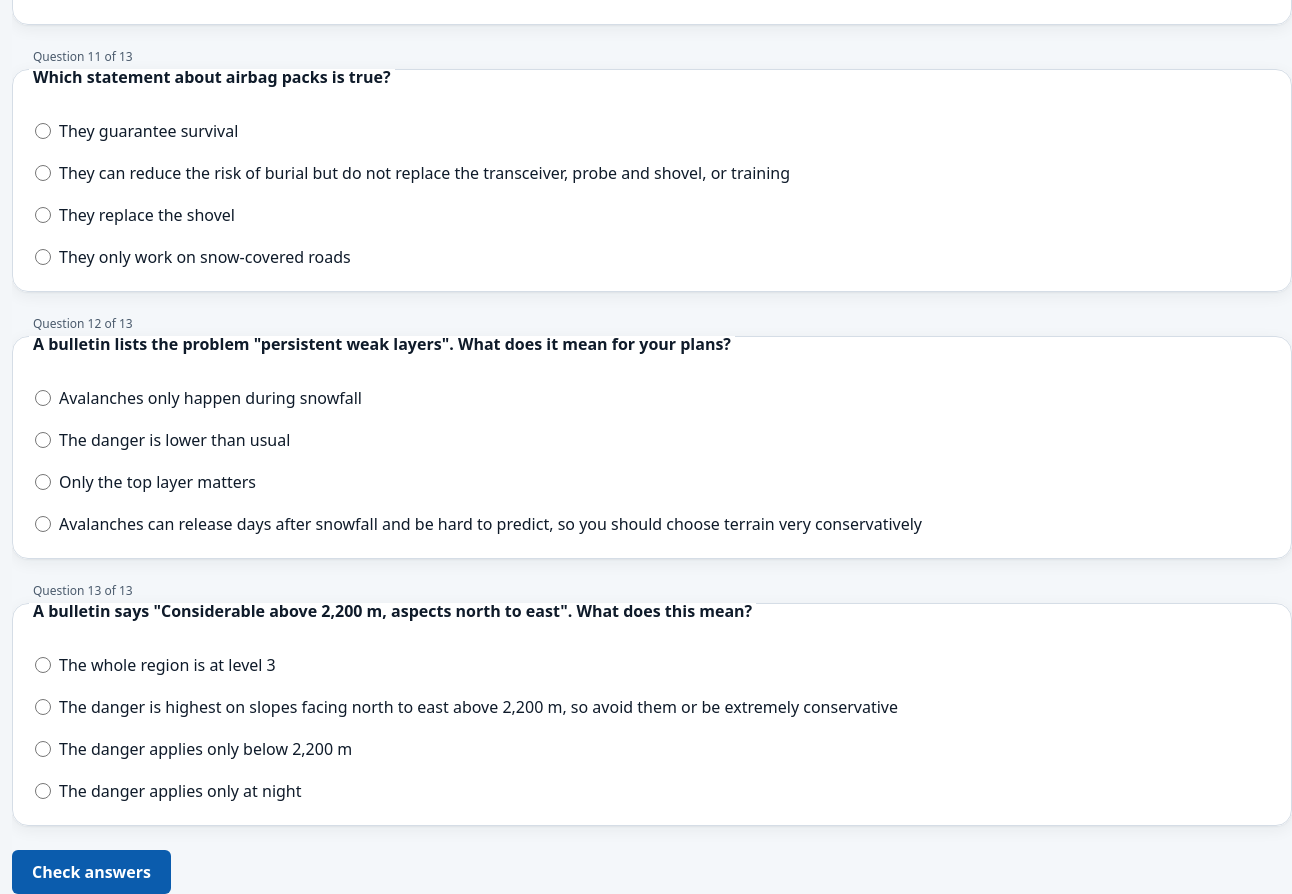
Quiz › submitting with nothing answered is allowed and scores 0
The image size is (1292, 894).
(page scrolled)
Click the button "Check answers" at (92, 872), box [12,850,171,893]
(page scrolled)
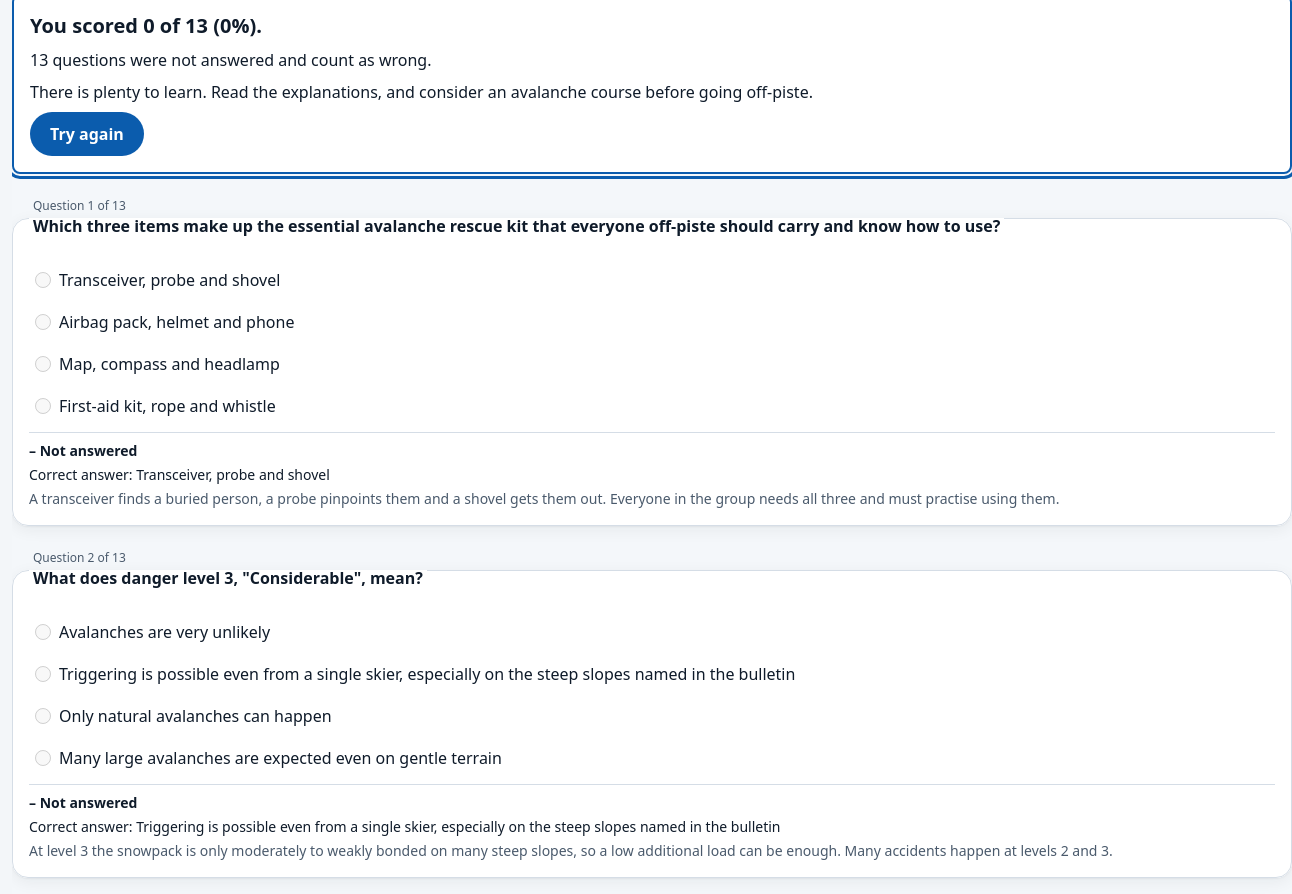
Now the text "You scored 0 of 13 (0%)." is shown, box [30,12,262,39]
Now the text "13 questions were not answered and count as wrong." is shown, box [30,49,432,71]
